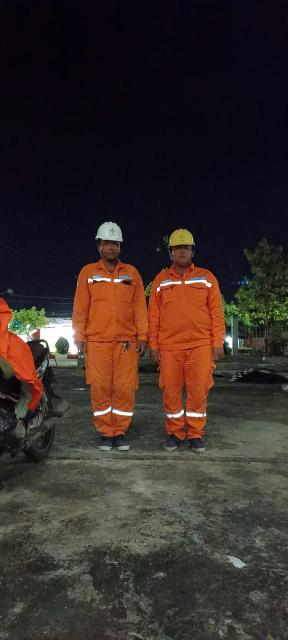helmet: (93, 218, 127, 247), (165, 226, 200, 252)
shoes: (160, 427, 190, 456), (91, 428, 117, 457), (186, 429, 208, 457), (113, 429, 134, 457)
